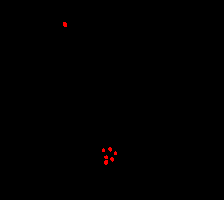Target: (63, 22, 67, 27), (108, 147, 112, 152), (110, 157, 114, 162), (104, 160, 108, 165), (104, 155, 108, 159), (102, 148, 105, 152), (114, 151, 117, 155)
